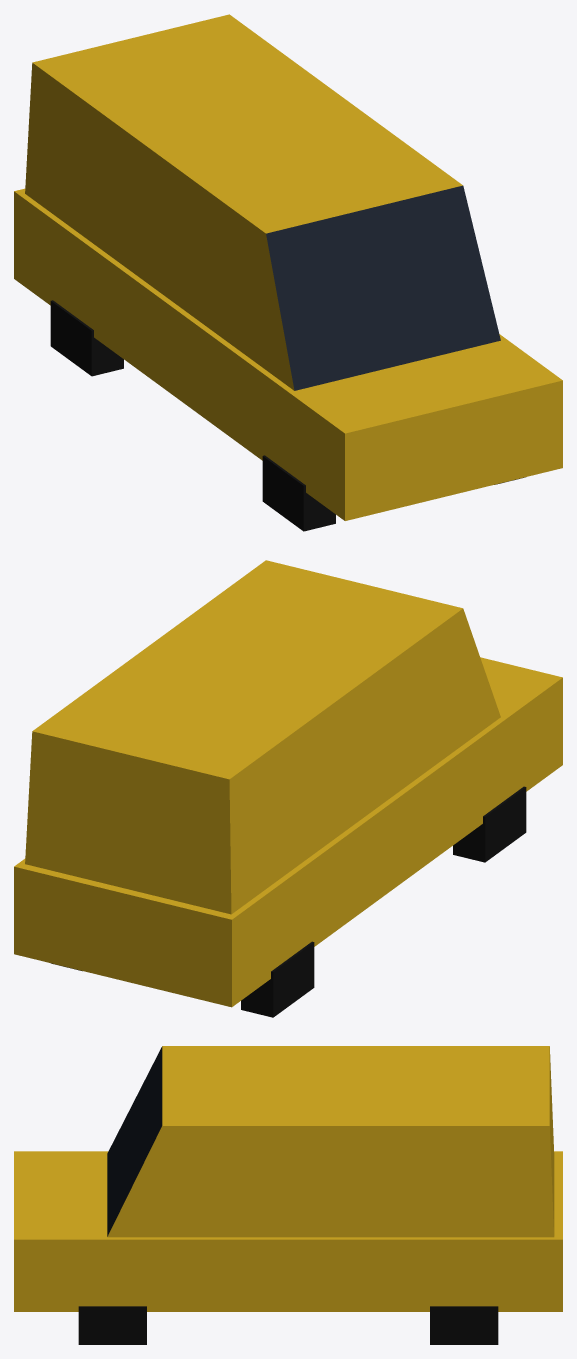
File: car_van_yellow.obj
The picture shows the model from 3 angles, top to bottom: view 1: azimuth 30°, elevation 25°; view 2: azimuth 150°, elevation 25°; view 3: azimuth 270°, elevation 25°; orthographic projection. The views are drawn at different scales.
Parts seen in each view (by area): view 1: car_van_yellow; view 2: car_van_yellow; view 3: car_van_yellow.
Part boxes in pixels (x1,y1,x2,y2): car_van_yellow: [14, 14, 562, 531]; car_van_yellow: [14, 560, 562, 1017]; car_van_yellow: [14, 1046, 562, 1344].
Bounding box in the file's own units: 1.94 × 2.15 × 5.
